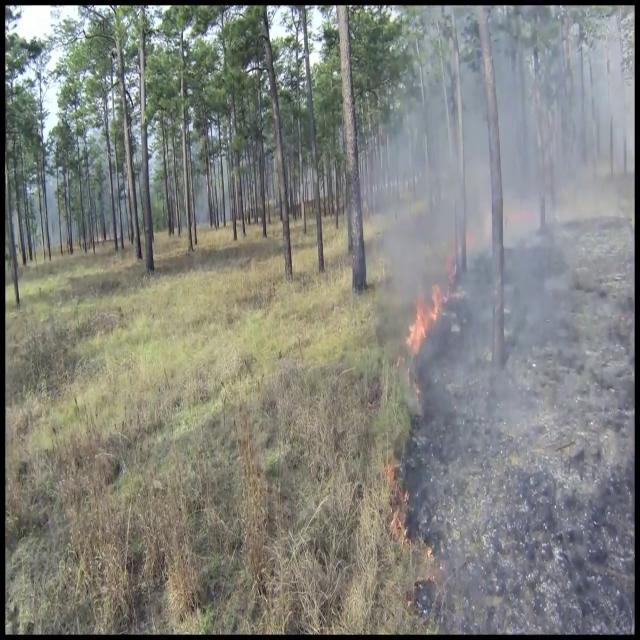Fire: (406, 276, 444, 355)
Smoke: (373, 15, 631, 534)
